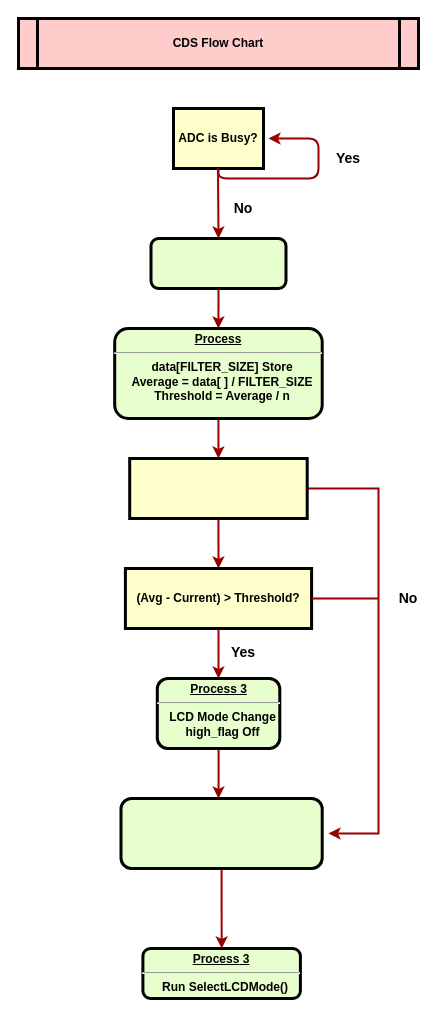
The diagram is 446 pixels wide and 1017 high, and some of its shapes have lost their labels. Each missing label, with the centre of its shape:
"cds_high_flag == True?" goes at (x=218, y=488).
"Process 3 (Current - avg) > Threshold ? set cds_high_flag True or False" goes at (x=221, y=833).
"Process Get CDS Value" goes at (x=218, y=263).
